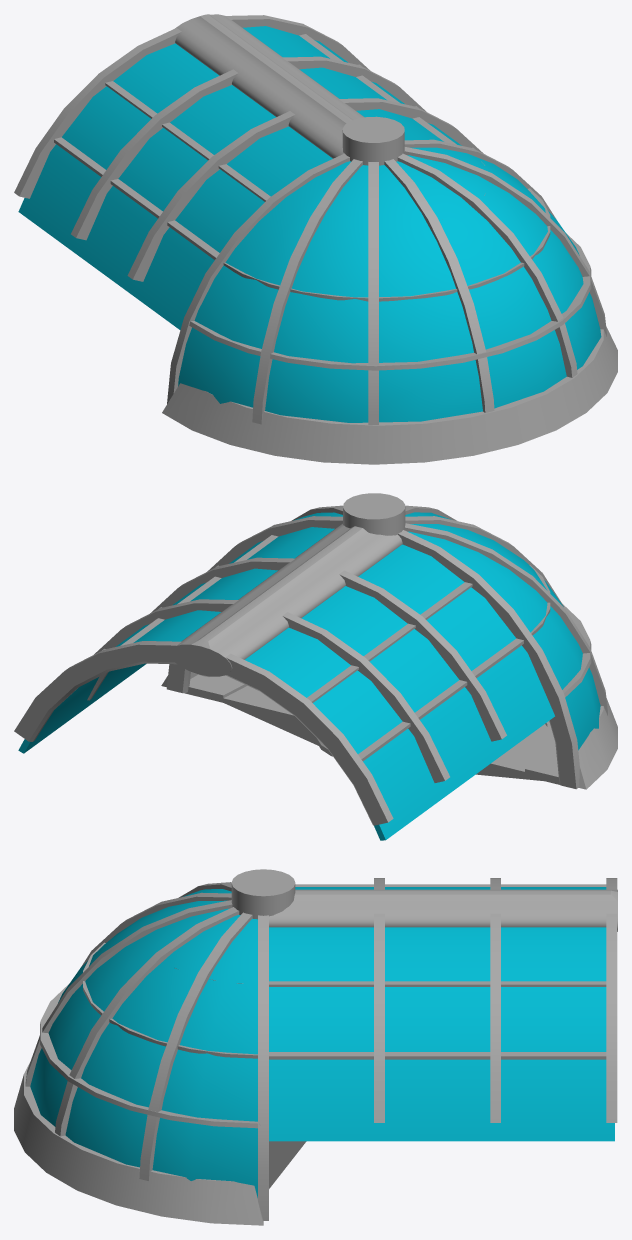
The model's file is SM_roundwindow_tunnel.fbx.
3 renders of one model, top to bottom at view 1: azimuth 30°, elevation 25°; view 2: azimuth 150°, elevation 25°; view 3: azimuth 270°, elevation 25°, orthographic. The views are drawn at different scales.
Parts seen in each view (by area): view 1: polySurface50; view 2: polySurface50; view 3: polySurface50.
Part boxes in pixels (x1,y1,x2,y2): polySurface50: (14,14,617,464); polySurface50: (14,493,617,840); polySurface50: (14,869,617,1225).
Bounding box in the file's own units: 36.18 × 19.29 × 43.55.
